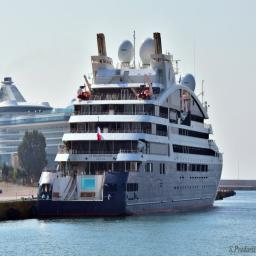cruises: (36, 29, 225, 223)
